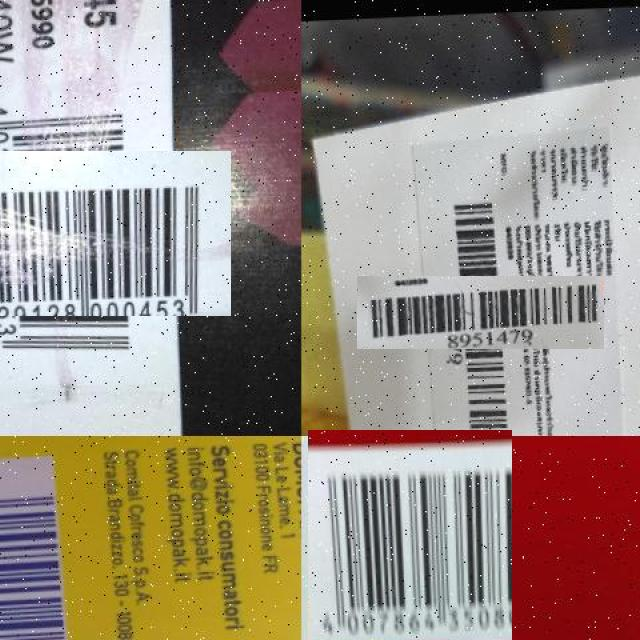Barcode: (0, 119, 199, 350), (305, 433, 515, 640), (400, 232, 560, 393), (0, 452, 82, 640)
